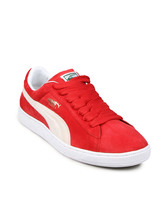shoes: (19, 56, 151, 170)
